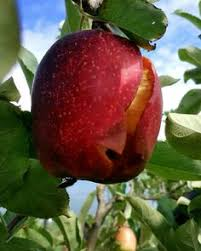damaged_apple: (33, 41, 163, 175)
